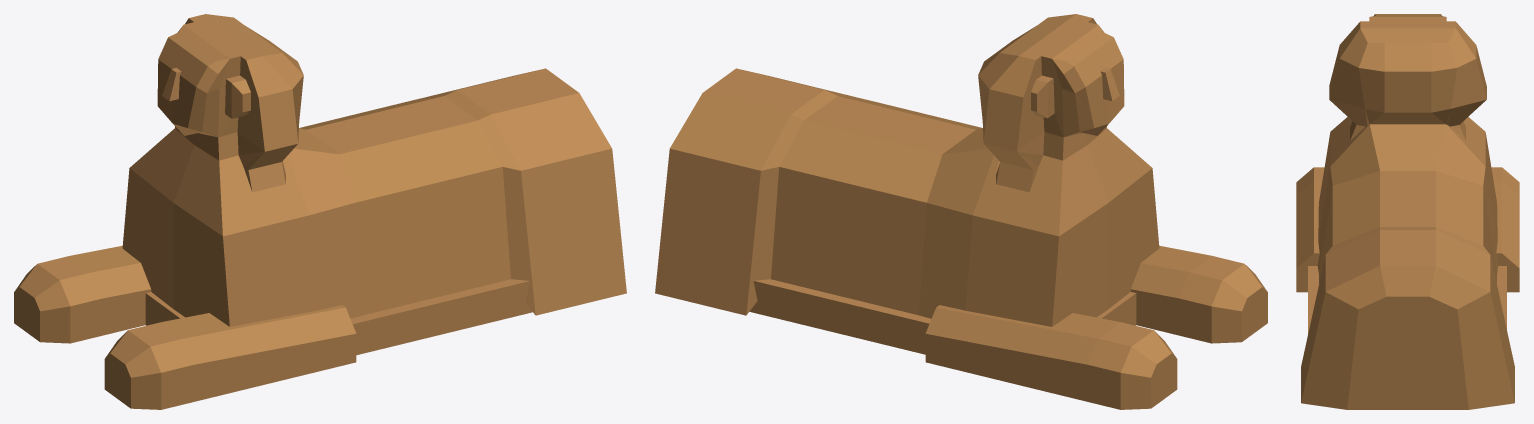
The model's file is Model_Desert_3x2B.fbx.
3 views of the same model, side by side, from view 1: azimuth 30°, elevation 25°; view 2: azimuth 150°, elevation 25°; view 3: azimuth 270°, elevation 25° (orthographic). The views are drawn at different scales.
Visible parts, largest first — view 1: Model_Frost_3x2B; view 2: Model_Frost_3x2B; view 3: Model_Frost_3x2B.
Part boxes in pixels (x1,y1,x2,y2): Model_Frost_3x2B: [14, 14, 626, 409]; Model_Frost_3x2B: [655, 14, 1267, 409]; Model_Frost_3x2B: [1296, 14, 1519, 409].
Size of the model in its own units: 587 by 323 by 270.
1 material, 1 textured.
